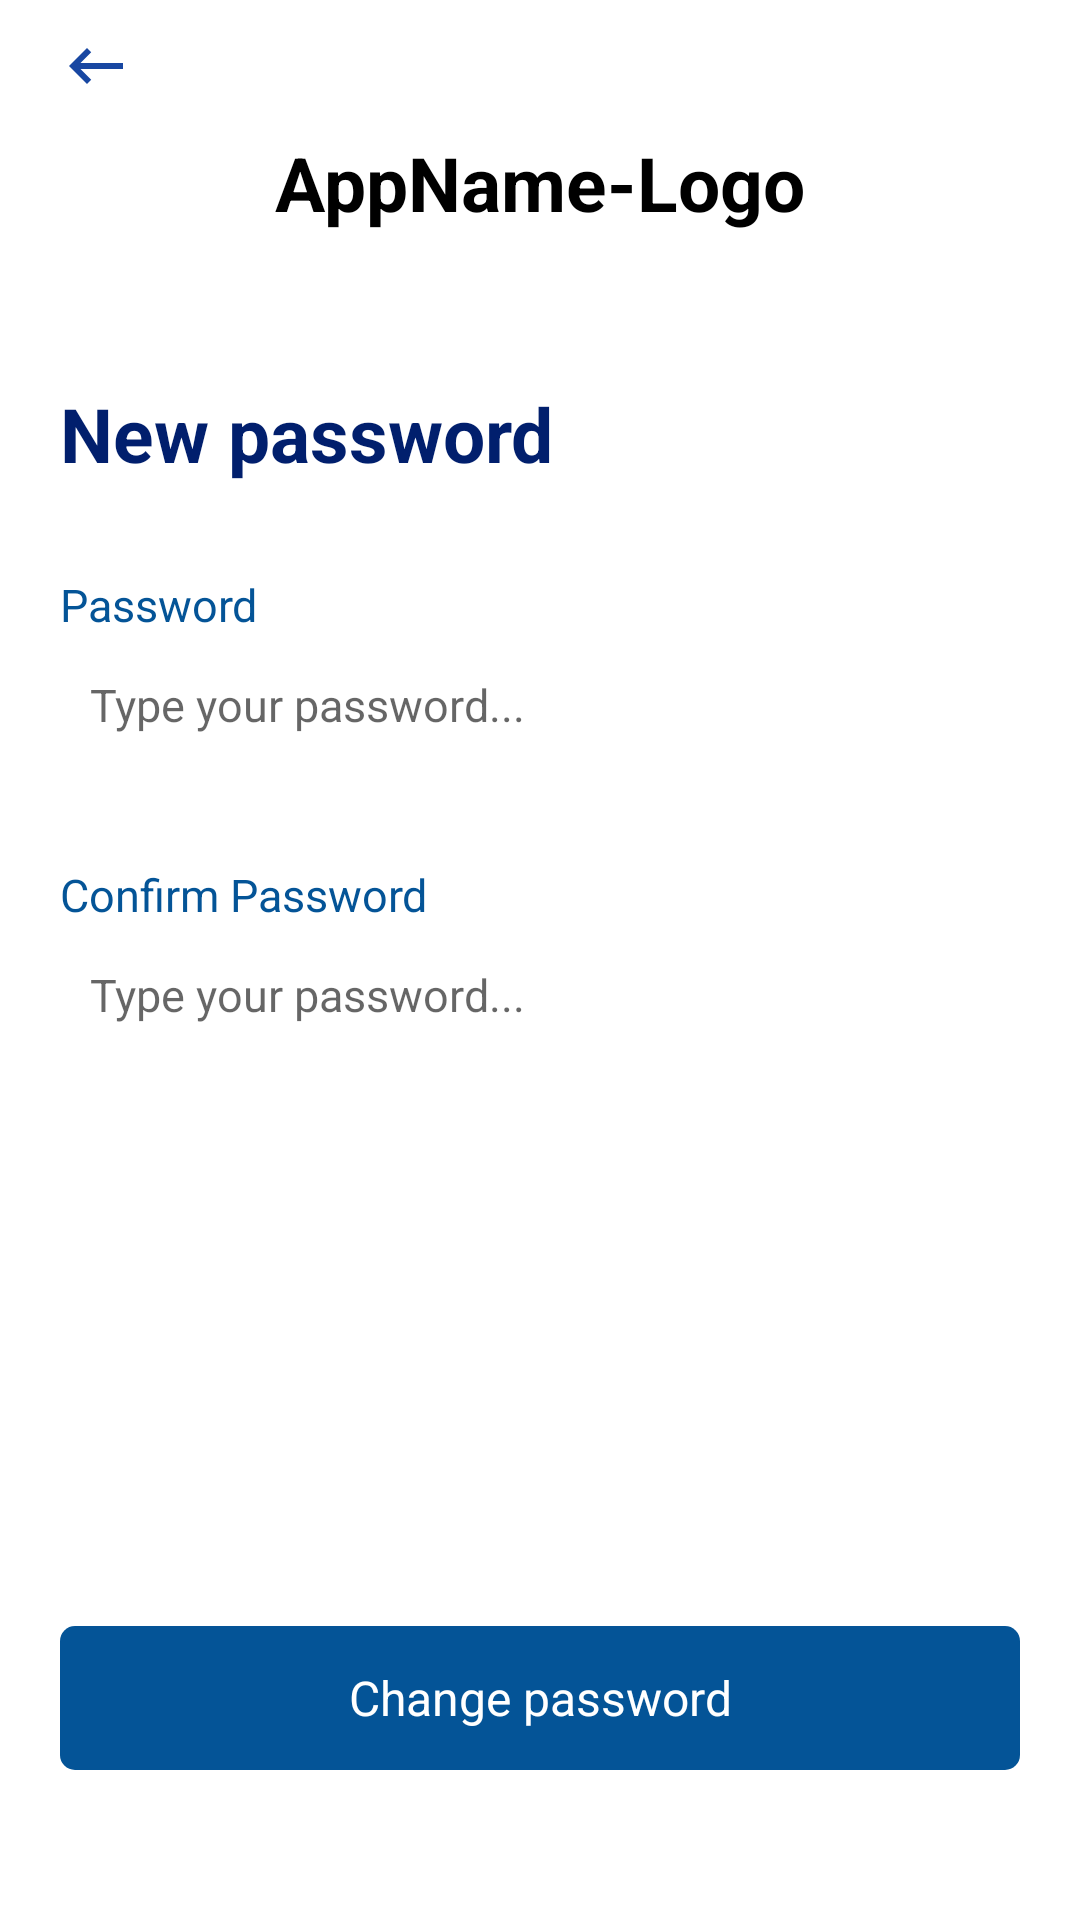

Point at icon controls on the screen. Image size 1080px×1920px, points as point (x, y).
back: point (96, 66)
